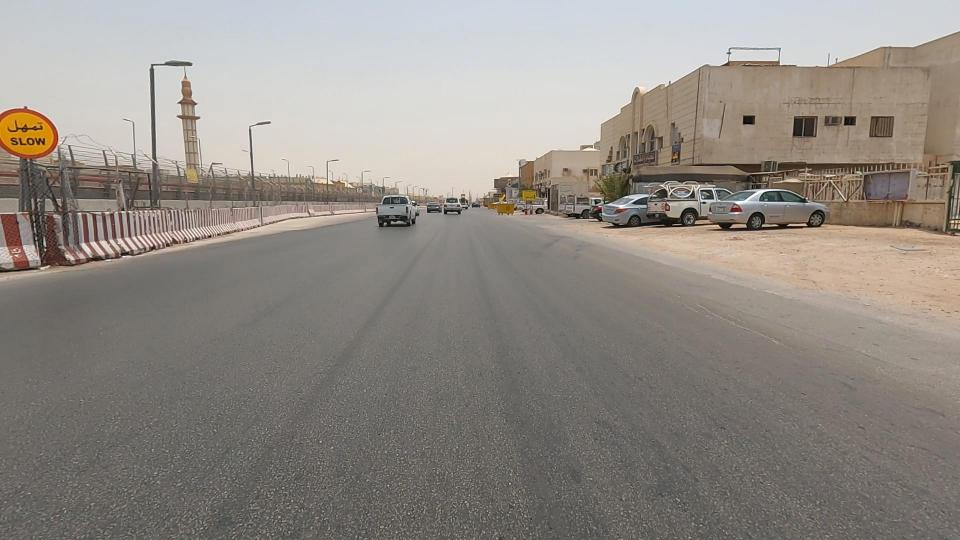CONSTRUCTION_ROAD: (25, 128, 306, 268), (220, 149, 378, 248)
